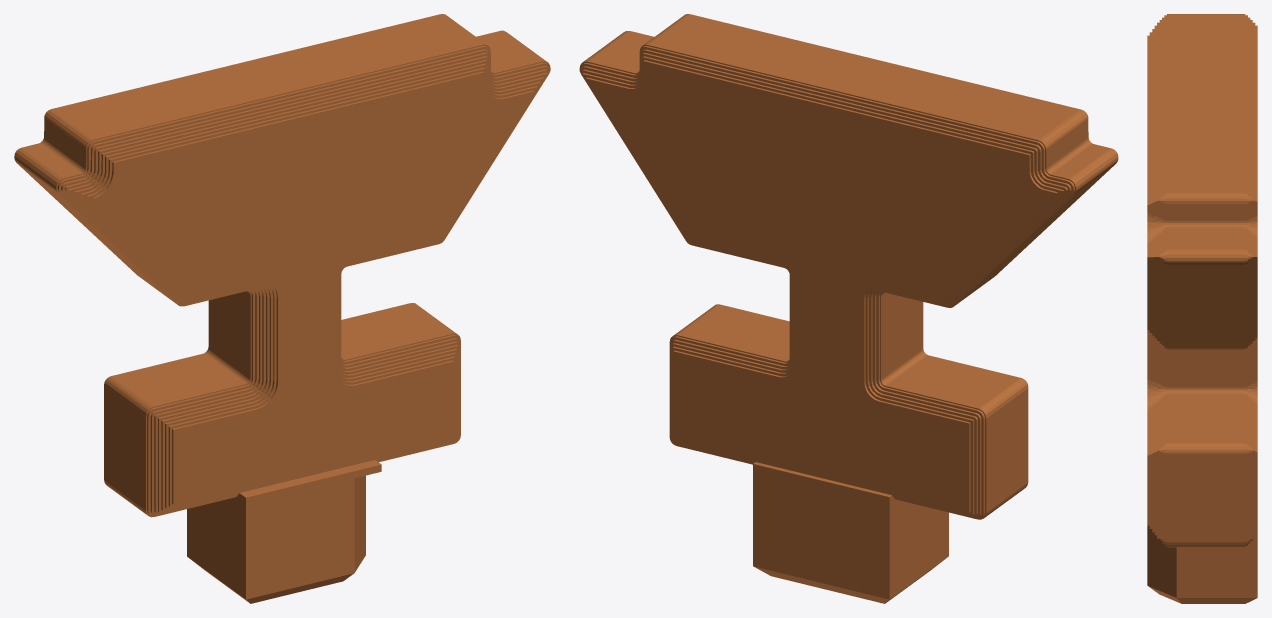
File: glyph-metal@metal.glb
The picture shows the model from 3 angles, left to right: view 1: azimuth 30°, elevation 25°; view 2: azimuth 150°, elevation 25°; view 3: azimuth 270°, elevation 25°; orthographic projection. The views are drawn at different scales.
Parts seen in each view (by area): view 1: geometry_0; view 2: geometry_0; view 3: geometry_0.
Part boxes in pixels (box(x1,y1,x2,y2)): geometry_0: box(14, 14, 550, 603); geometry_0: box(579, 14, 1118, 603); geometry_0: box(1147, 14, 1257, 603).
Size of the model in its own units: 21.82 by 21.04 by 4.5.
